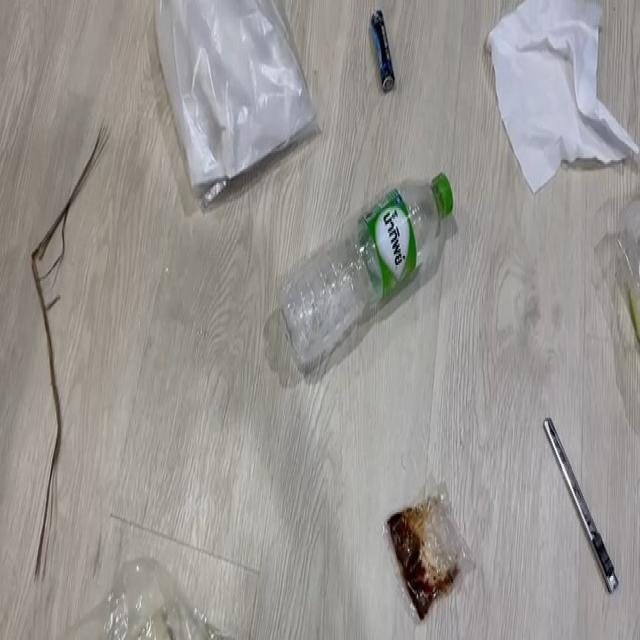Anorganik: (275, 160, 473, 360), (143, 0, 320, 166), (501, 0, 638, 192), (541, 416, 637, 596)
B3: (35, 96, 119, 517), (381, 486, 483, 620), (110, 560, 255, 632), (367, 0, 401, 104)
